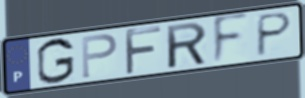F: (211, 11, 251, 68), (123, 24, 165, 77)
G: (34, 36, 76, 86)
P: (79, 32, 119, 81), (255, 11, 295, 59)
R: (164, 20, 209, 70)
